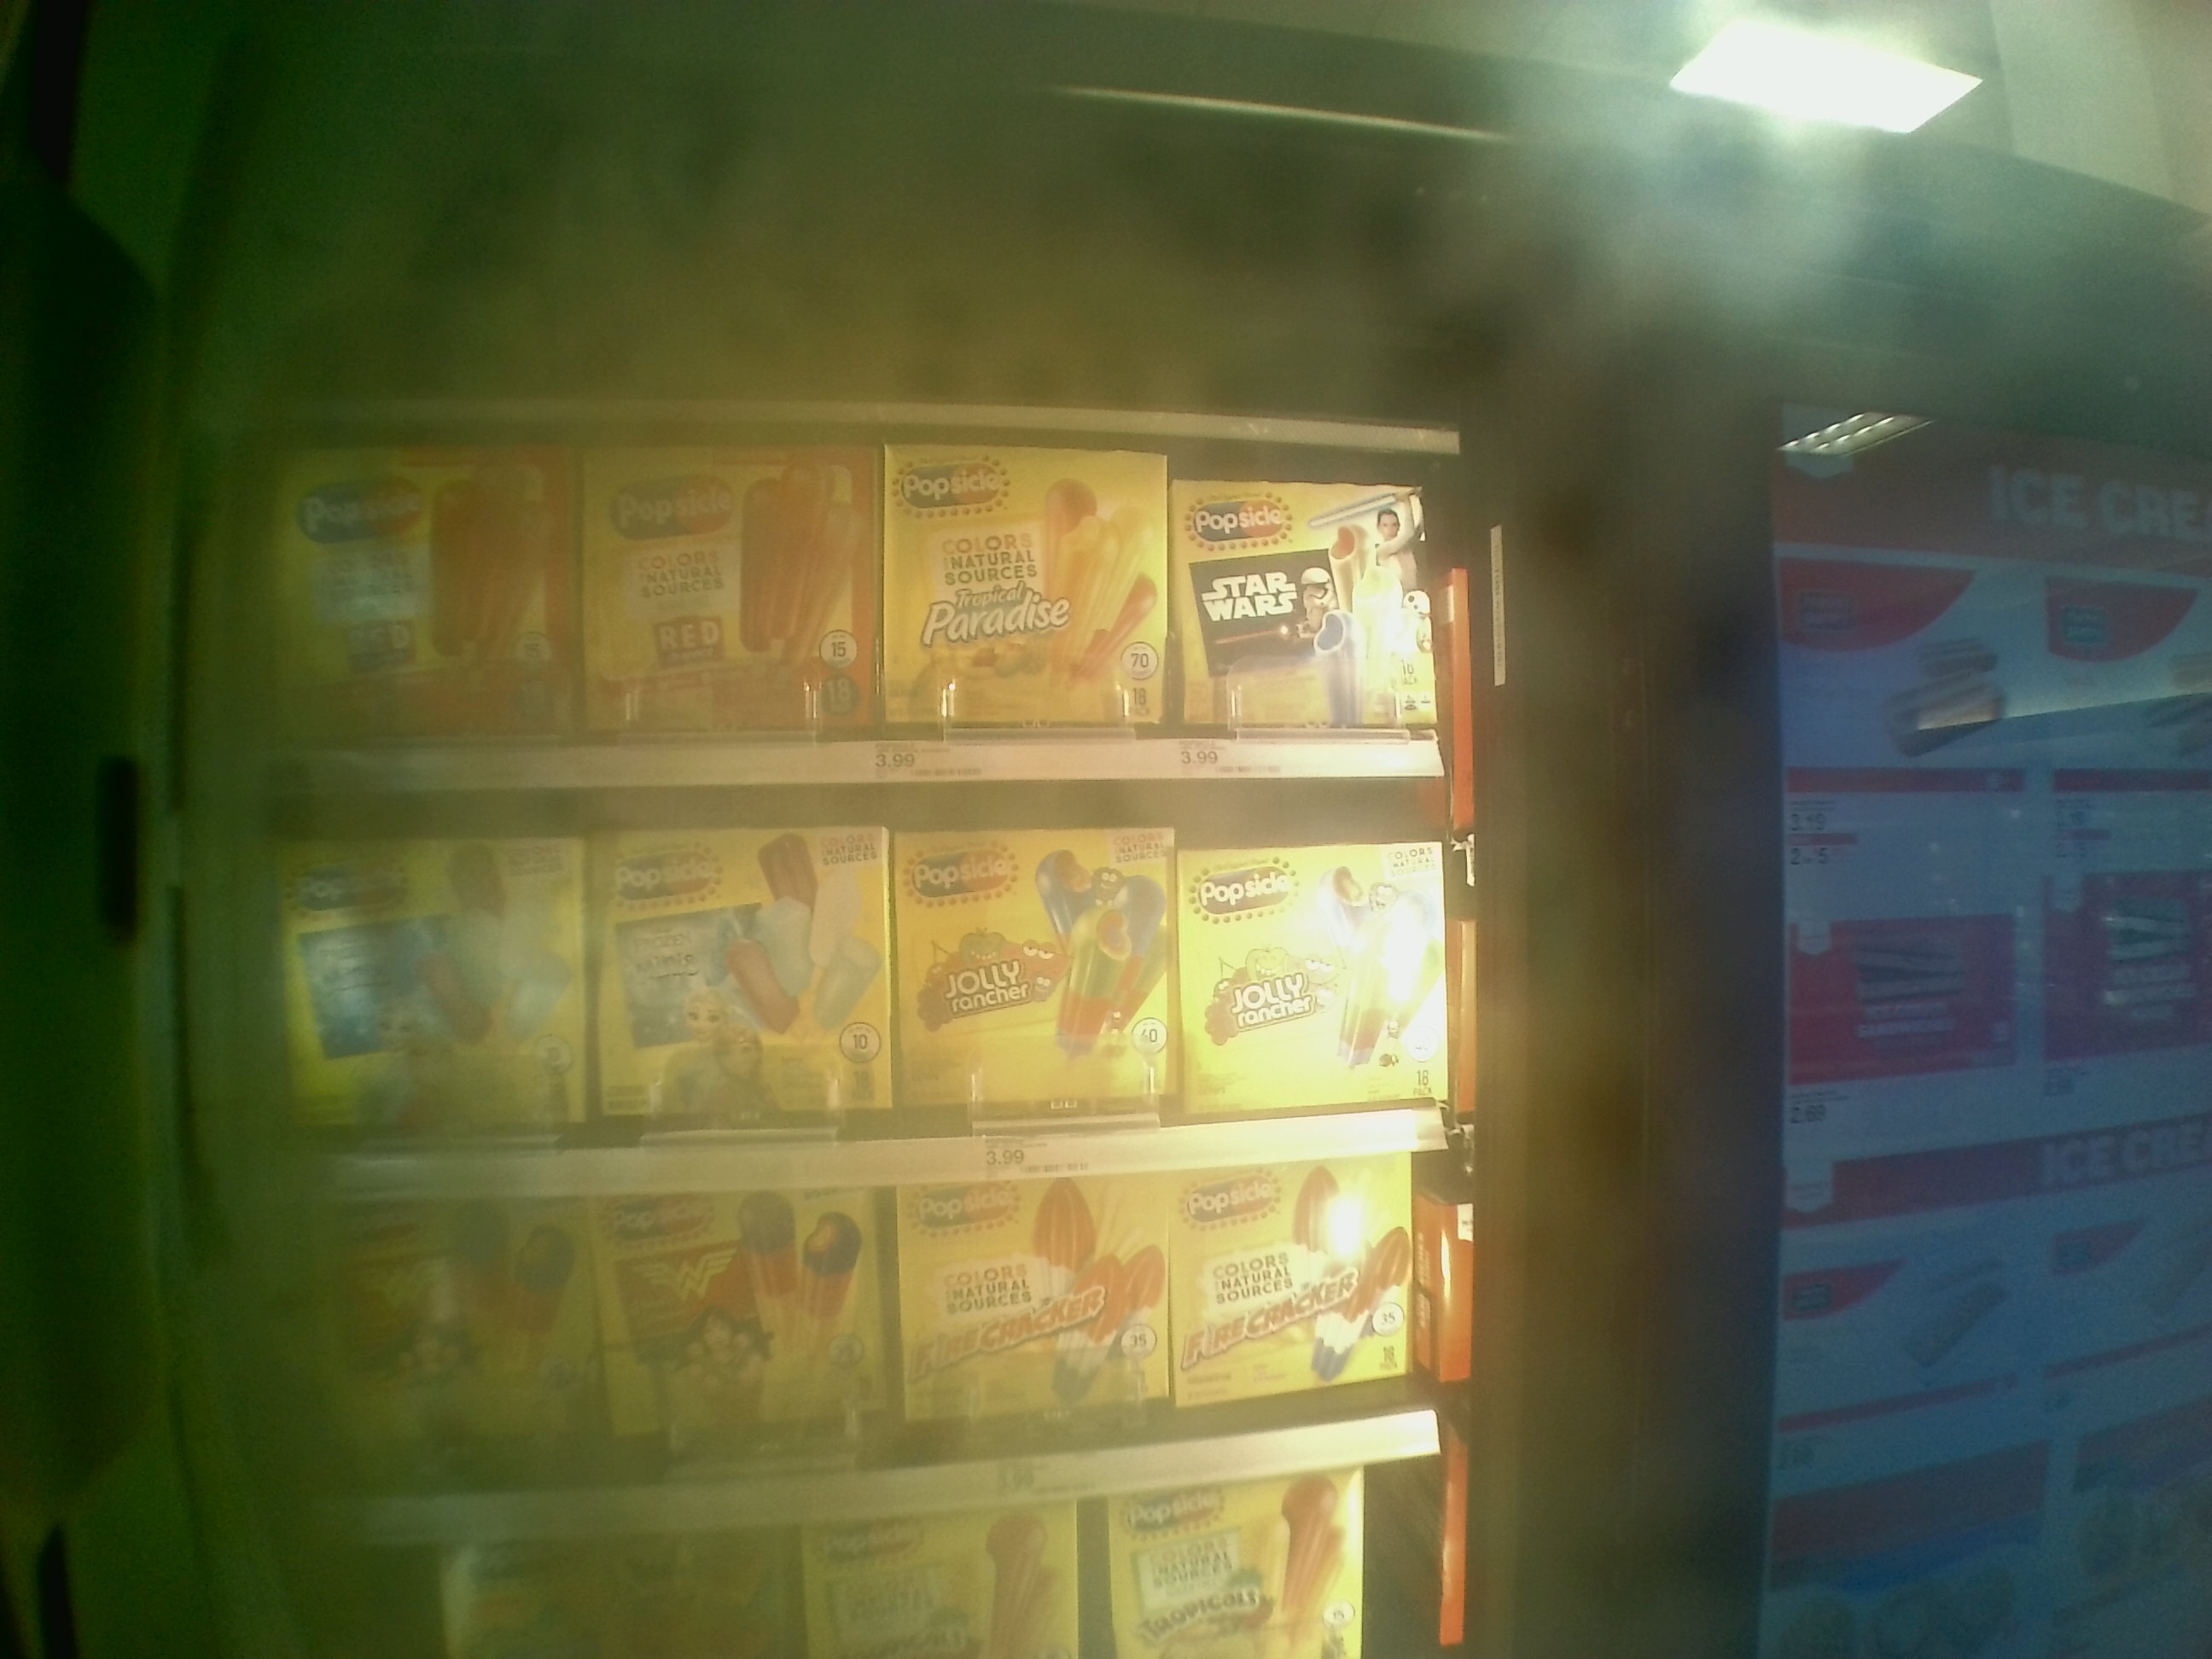shelf: (233, 397, 1440, 788)
